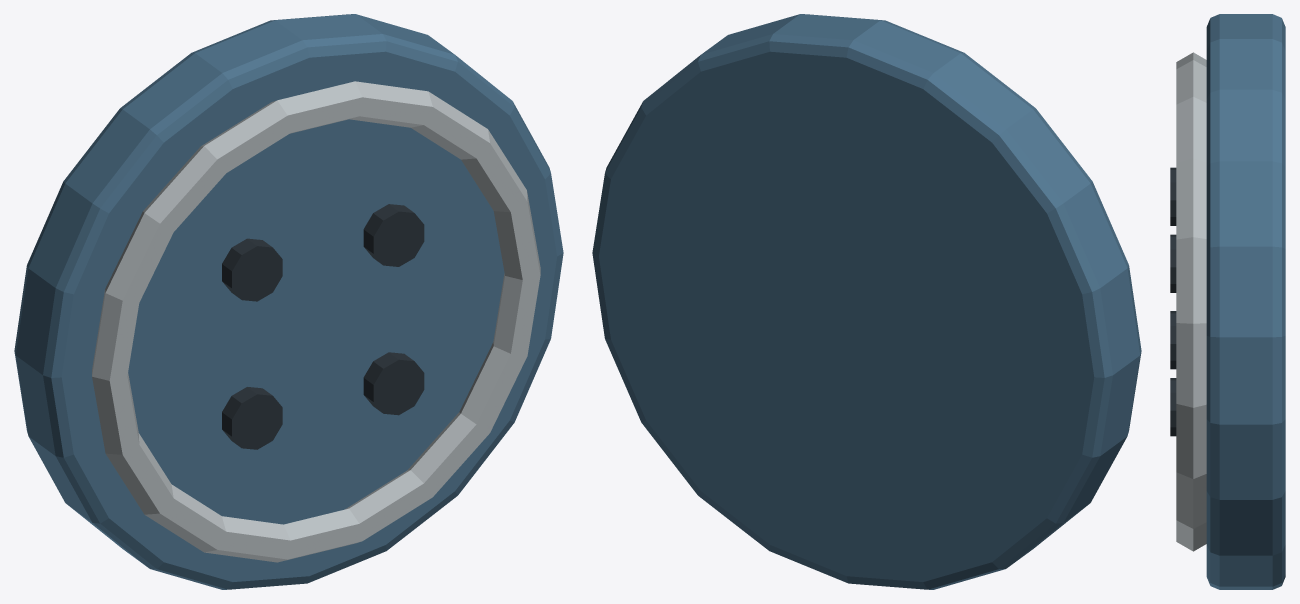
The model's file is item_iris_button.glb.
3 renders of one model, left to right at view 1: azimuth 30°, elevation 25°; view 2: azimuth 150°, elevation 25°; view 3: azimuth 270°, elevation 25°, orthographic. The views are drawn at different scales.
Parts seen in each view (by area): view 1: Coat button, Button rim, Button hole.002, Button hole.003, Button hole.001, Button hole; view 2: Coat button; view 3: Coat button, Button rim, Button hole, Button hole.001, Button hole.002, Button hole.003.
Boxes of the visible parts, box(x1,y1,x2,y2) form: Coat button: box(14, 14, 563, 589); Button rim: box(92, 81, 540, 562); Button hole.002: box(363, 352, 424, 415); Button hole.003: box(363, 204, 424, 266); Button hole.001: box(222, 238, 282, 301); Button hole: box(222, 387, 282, 449); Coat button: box(592, 14, 1141, 589); Coat button: box(1206, 14, 1285, 589); Button rim: box(1176, 52, 1206, 551); Button hole: box(1170, 311, 1176, 369); Button hole.001: box(1170, 167, 1176, 225); Button hole.002: box(1170, 378, 1176, 436); Button hole.003: box(1170, 234, 1176, 292).
Bounding box in the file's own units: 0.088 × 0.088 × 0.0175.
